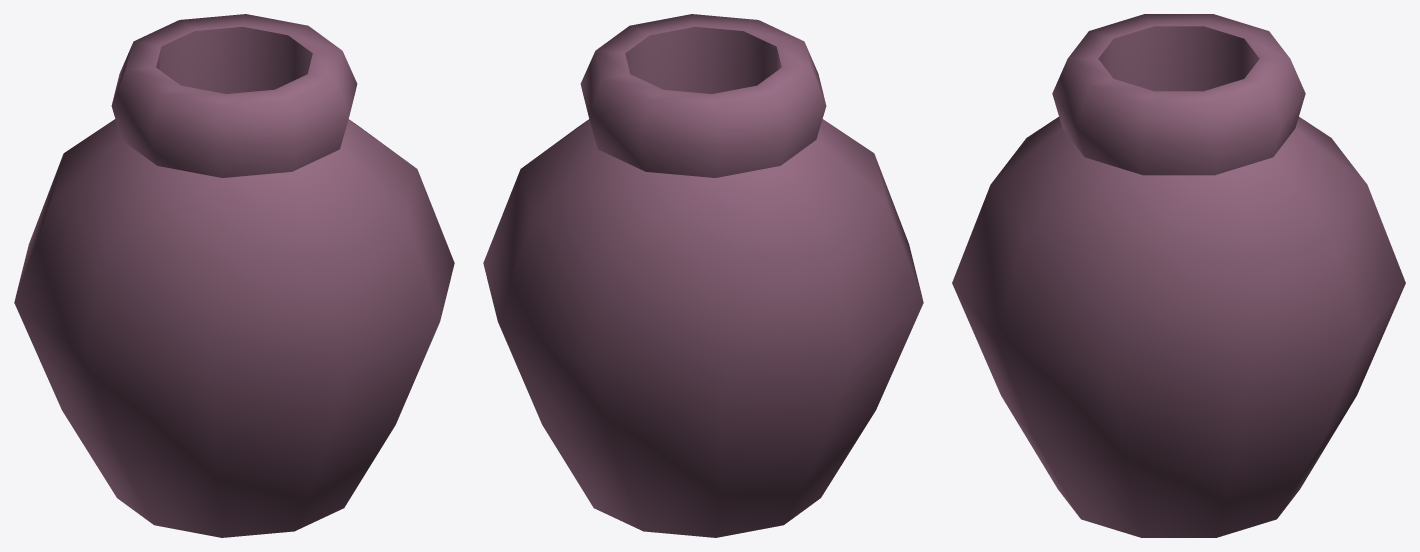
The model's file is Bottle_B.fbx.
3 views of the same model, side by side, from view 1: azimuth 30°, elevation 25°; view 2: azimuth 150°, elevation 25°; view 3: azimuth 270°, elevation 25° (orthographic).
Visible parts, largest first — view 1: Bottle_B; view 2: Bottle_B; view 3: Bottle_B.
Part boxes in pixels (x1,y1,x2,y2): Bottle_B: (14, 14, 454, 537); Bottle_B: (483, 14, 923, 537); Bottle_B: (952, 14, 1405, 537).
Size of the model in its own units: 17.97 by 19.77 by 18.89.
